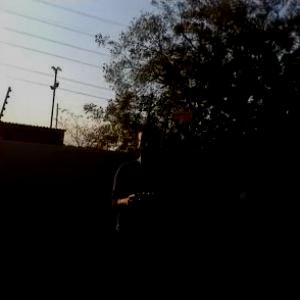follow: (103, 112, 179, 299)
